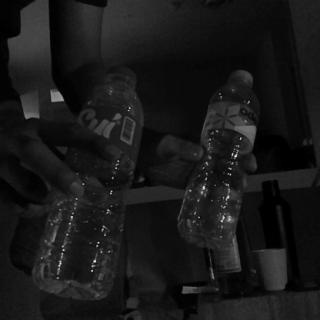plastic_bottles: (37, 66, 140, 298), (174, 70, 258, 244)
